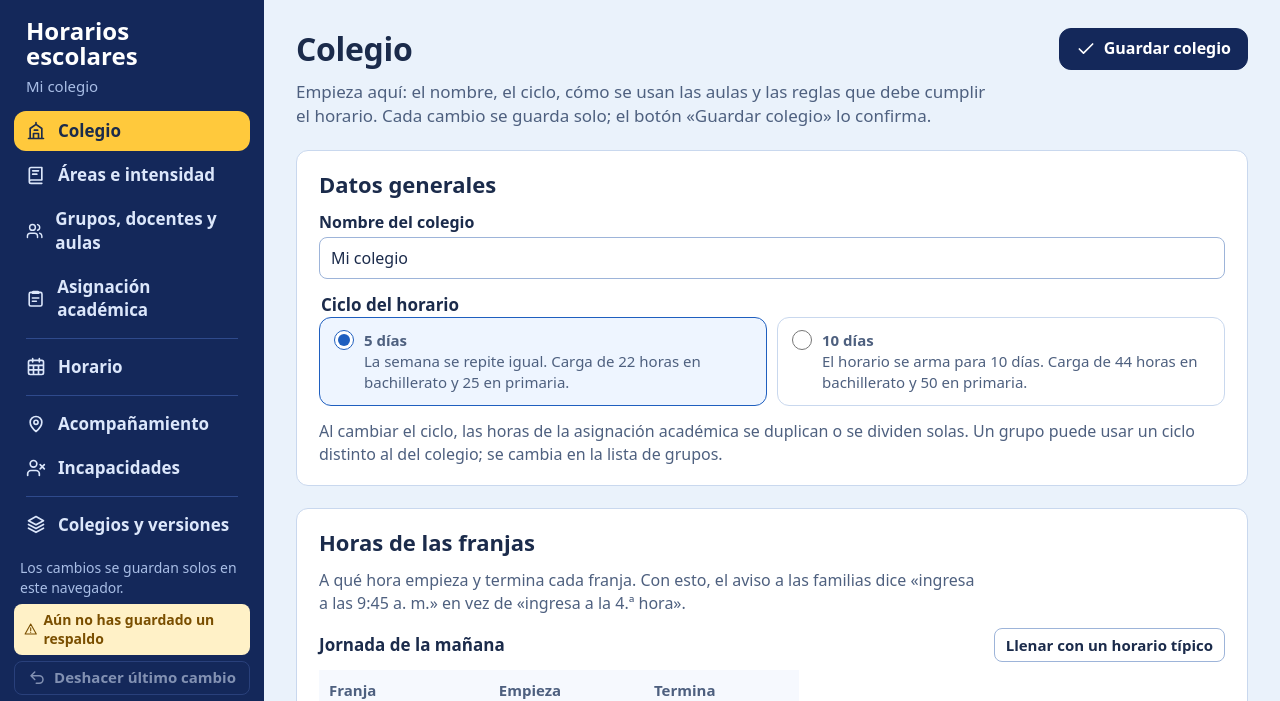
Test: pantalla de horario › sin asignación explica qué falta
The image size is (1280, 701).
Click the button "Horario" at (132,367), box 14,347 -> 250,387
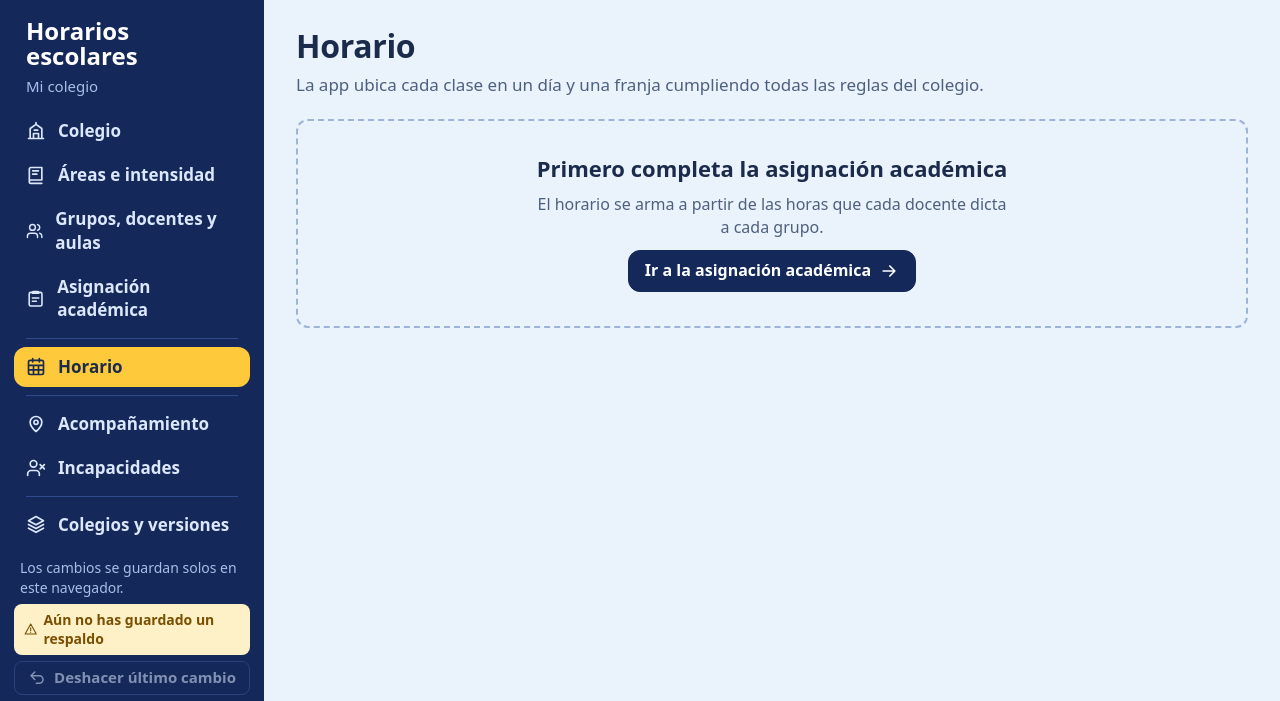
Result: the heading "Primero completa la asignación académica" is shown at 537,155 -> 1007,181
